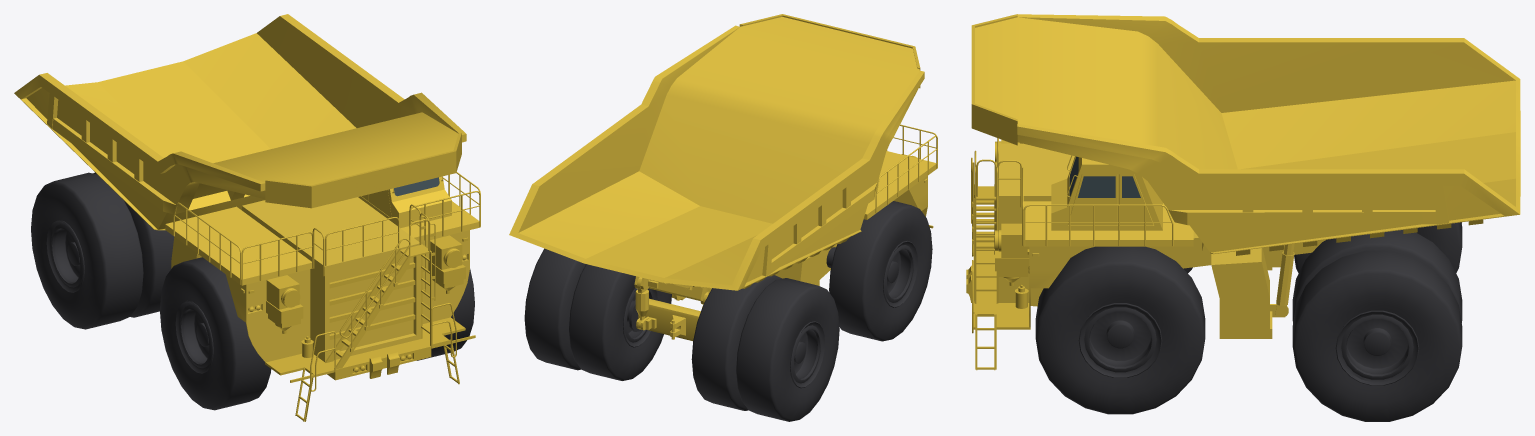
The model's file is dumper-detailed.glb.
The picture shows the model from 3 angles, left to right: view 1: azimuth 30°, elevation 25°; view 2: azimuth 150°, elevation 25°; view 3: azimuth 270°, elevation 25°; orthographic projection. The views are drawn at different scales.
Visible parts, largest first — view 1: dump_body, access_ladder, chassis_frame, tyre_rear_right, tyre_front_right, operator_cab, tyre_front_left; view 2: dump_body, tyre_rear_right, tyre_rear_left, tyre_front_right, chassis_frame, access_ladder; view 3: dump_body, tyre_rear_left, tyre_front_left, chassis_frame, access_ladder, operator_cab, tyre_rear_right.
Part boxes in pixels (box(x1,y1,x2,y2)): dump_body: box(14, 14, 480, 285); access_ladder: box(241, 132, 480, 421); chassis_frame: box(171, 197, 469, 362); tyre_rear_right: box(31, 172, 174, 329); tyre_front_right: box(160, 257, 271, 410); operator_cab: box(358, 176, 451, 228); tyre_front_left: box(417, 269, 474, 360); dump_body: box(509, 17, 937, 290); tyre_rear_right: box(691, 275, 839, 421); tyre_rear_left: box(524, 248, 671, 380); tyre_front_right: box(826, 201, 932, 341); chassis_frame: box(634, 176, 927, 340); access_ladder: box(739, 14, 936, 228); dump_body: box(975, 14, 1520, 254); tyre_rear_left: box(1292, 230, 1462, 421); tyre_front_left: box(1035, 246, 1205, 414); chassis_frame: box(996, 143, 1325, 338); access_ladder: box(966, 14, 1030, 370); operator_cab: box(1051, 155, 1162, 230); tyre_rear_right: box(1294, 222, 1462, 273).
Size of the model in its own units: 8.13 by 7.16 by 12.62.
